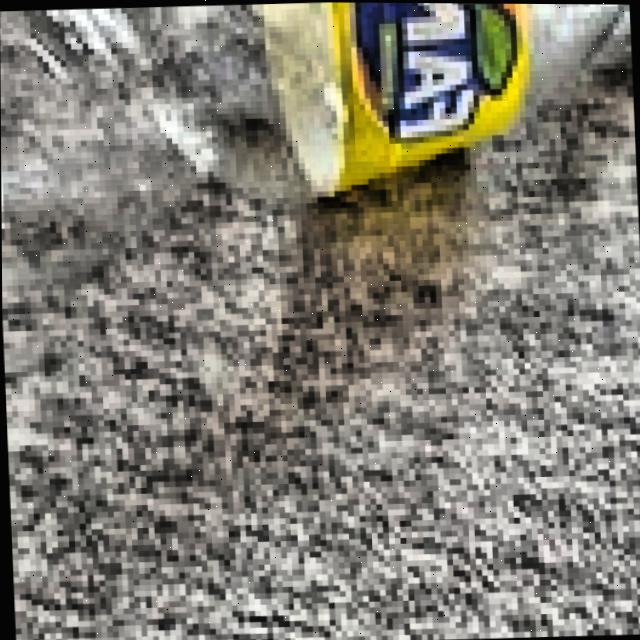plastic: (0, 0, 640, 295)
